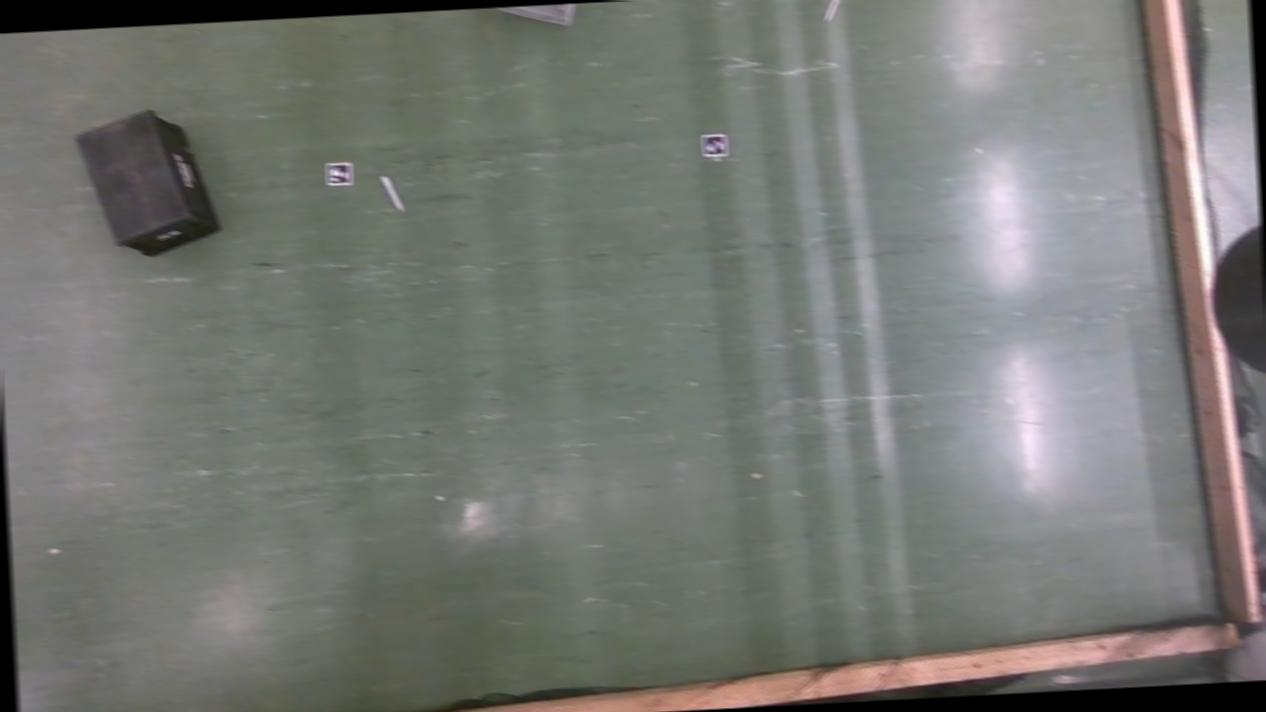probes: (381, 176, 404, 214), (823, 0, 844, 20)
rako: (72, 107, 222, 262), (496, 3, 573, 28)
